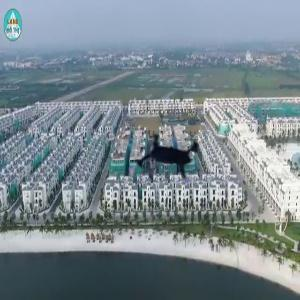drone: (123, 113, 220, 210)
